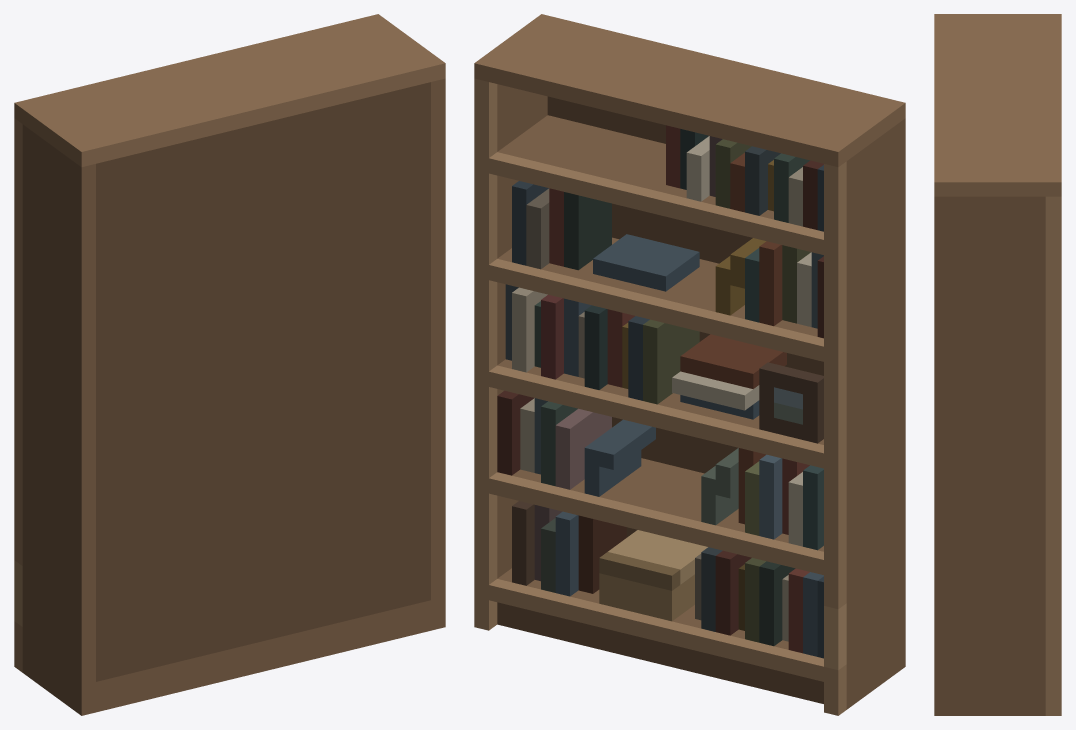
File: Claude_bookshelf.glb
The picture shows the model from 3 angles, left to right: view 1: azimuth 30°, elevation 25°; view 2: azimuth 150°, elevation 25°; view 3: azimuth 270°, elevation 25°; orthographic projection. The views are drawn at different scales.
Parts seen in each view (by area): view 1: Claude_bookshelf; view 2: Claude_bookshelf; view 3: Claude_bookshelf.
Boxes of the visible parts, x1=… form: Claude_bookshelf: x1=14, y1=14, x2=445, y2=715; Claude_bookshelf: x1=474, y1=14, x2=905, y2=715; Claude_bookshelf: x1=934, y1=14, x2=1061, y2=715.
Bounding box in the file's own units: 1.25 × 1.85 × 0.4.
